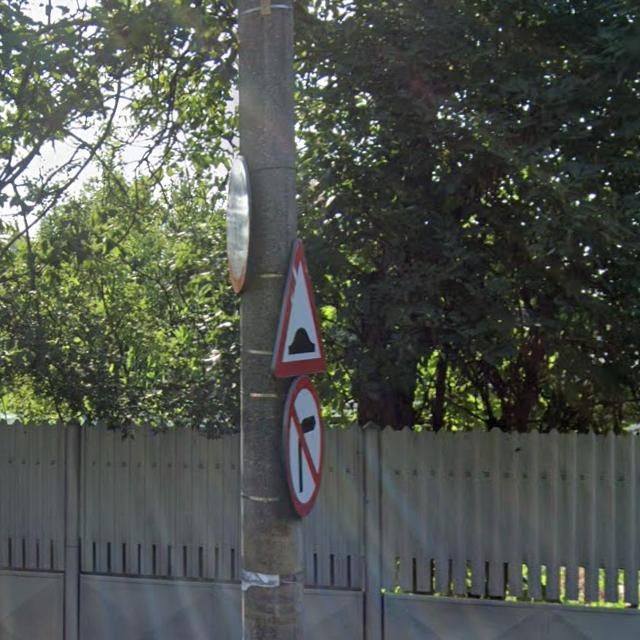forb_right: (283, 376, 325, 517)
warn_speed_bumper: (268, 238, 329, 378)
